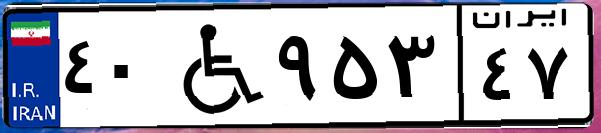0: (110, 28, 158, 98)
3: (385, 28, 445, 110)
4: (57, 26, 110, 100), (475, 38, 525, 113)
5: (330, 28, 385, 110)
7: (525, 38, 570, 115)
9: (270, 28, 330, 110)
ژ (معلولین و جانبازان): (158, 12, 270, 120)
